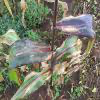Corn leaf blight: (3, 38, 52, 89), (57, 16, 96, 56), (7, 64, 51, 99), (55, 34, 88, 69)
